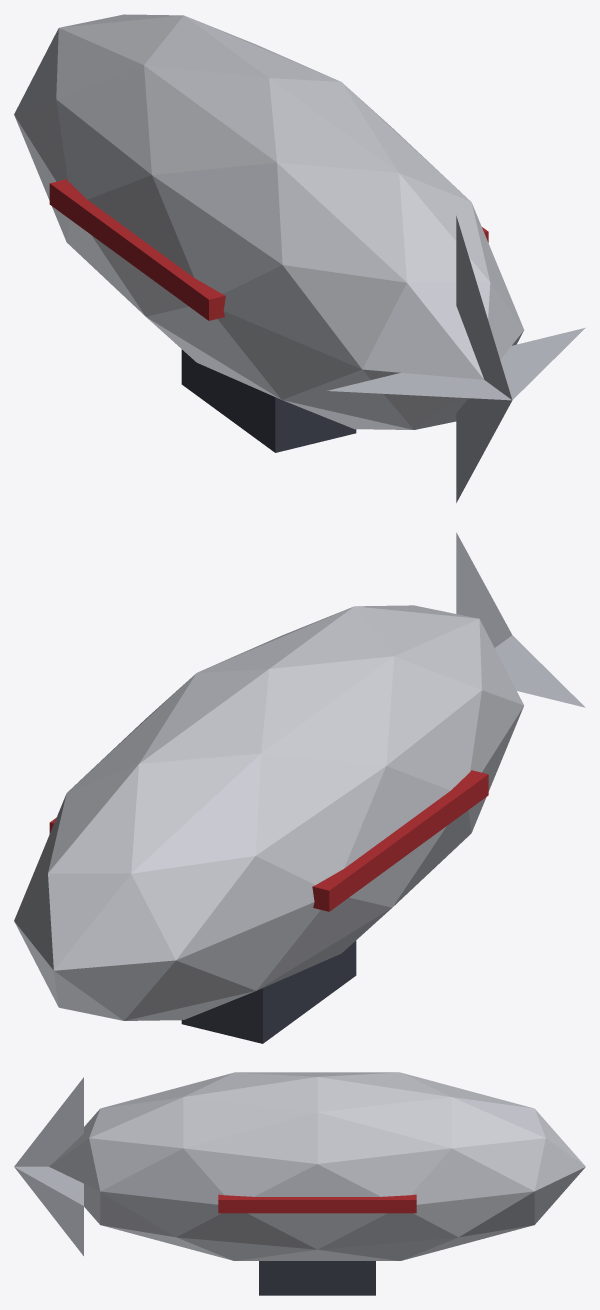
Rendered from blimp.glb.
3 renders of one model, top to bottom at view 1: azimuth 30°, elevation 25°; view 2: azimuth 150°, elevation 25°; view 3: azimuth 270°, elevation 25°, orthographic. The views are drawn at different scales.
Visible parts, largest first — view 1: blimp; view 2: blimp; view 3: blimp.
Boxes of the visible parts, left/top/right/bottom form: blimp: left=14, top=14, right=585, bottom=502; blimp: left=14, top=532, right=585, bottom=1043; blimp: left=14, top=1072, right=585, bottom=1295.
Bounding box in the file's own units: 0.345 × 0.39 × 0.98.
